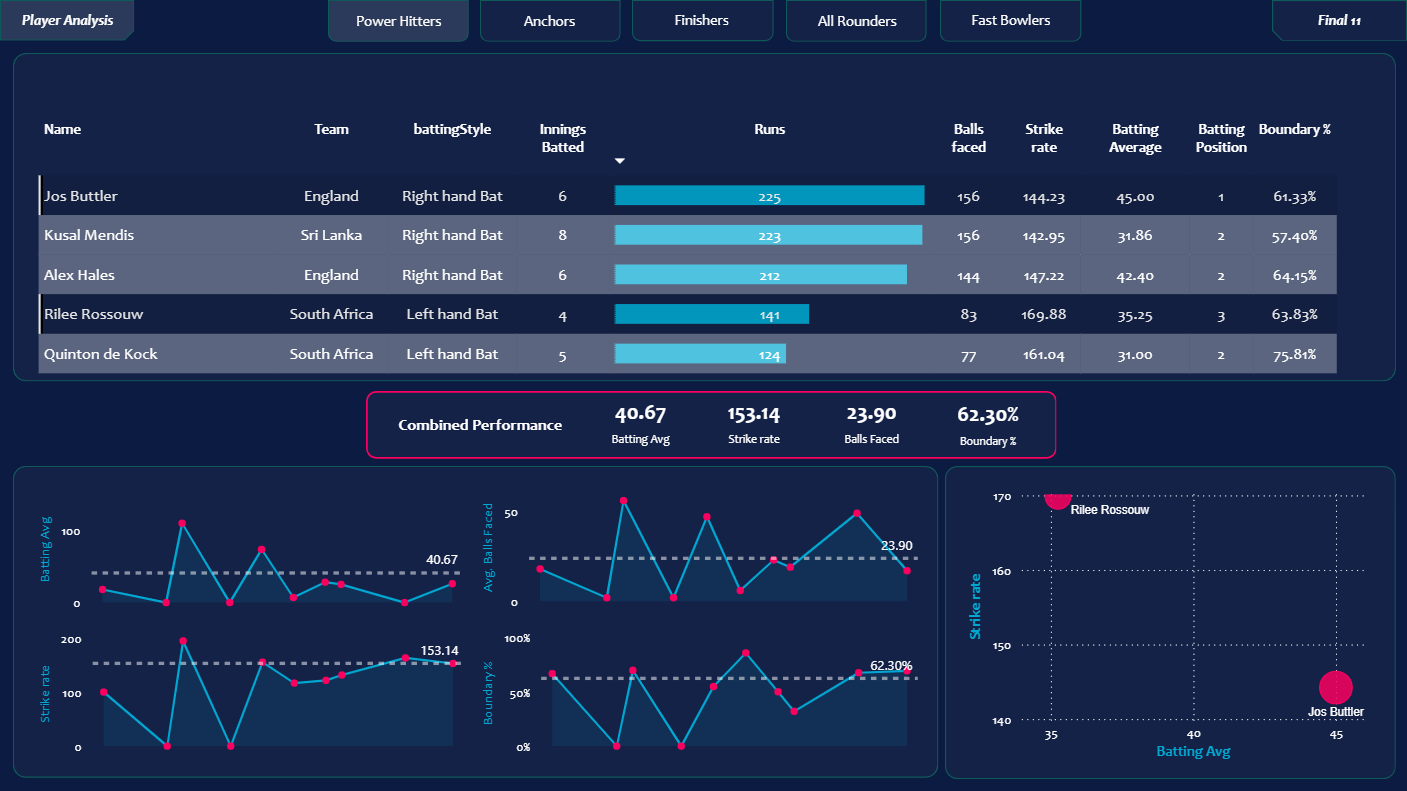

The dashboard page shown, as its layout file describes it:
{"tool":"powerbi","page":{"name":"Power Hitters / Openers","canvas":[1280,720],"ordinal":0},"visuals":[{"type":"tableEx","fields":{"Values":["dim_players.name","dim_players.team","dim_players.battingStyle","Key_Measures.Total Innings Batted","Key_Measures.Total Runs","Key_Measures.Total balls Faced","Key_Measures.Strike Rate","Key_Measures.Batting Avg","Key_Measures.Batting Position","Key_Measures.Boundary %"]},"box":[19.7,60.6,1240.9,166.7],"z":0},{"type":"scatterChart","fields":{"Category":["dim_players.name"],"Size":["Key_Measures.Total Runs"],"X":["Key_Measures.Batting Avg"],"Y":["Key_Measures.Strike Rate"],"Series":["dim_players.name"]},"box":[33.3,321.7,698.3,360],"z":1000},{"type":"textbox","box":[56.1,263.6,325.8,28.8],"z":2000},{"type":"textbox","box":[20,13.3,325,30],"z":3000},{"type":"card","fields":{"Values":["Key_Measures.Batting Avg"]},"box":[756.7,321.7,226.7,136.7],"z":4000},{"type":"card","fields":{"Values":["Key_Measures.Strike Rate"]},"box":[1016.7,321.7,226.7,136.7],"z":5000},{"type":"card","fields":{"Values":["Key_Measures.Average Balls Faced"]},"box":[1016.7,501.7,226.7,136.7],"z":6000},{"type":"card","fields":{"Values":["Key_Measures.Boundary %"]},"box":[776.7,510,186.7,128.3],"z":7000},{"type":"textbox","box":[776.7,291.7,325,30],"z":8000},{"type":"slicer","fields":{"Values":["dim_match_summary.Stage"]},"box":[1127.5,98.8,133.8,88.8],"z":9000}]}

Visuals, with their boxes in screenshot pixels (x1, y1, x2, y2), scaled from the page's 1280x720 canvas onto the 1407x791 screenshot:
tableEx - dim_players.name x dim_players.team: pyautogui.locateOnScreen(22, 67, 1386, 250)
scatterChart - dim_players.name x Key_Measures.Total Runs: pyautogui.locateOnScreen(37, 353, 804, 749)
textbox: pyautogui.locateOnScreen(62, 290, 420, 321)
textbox: pyautogui.locateOnScreen(22, 15, 379, 48)
card - Key_Measures.Batting Avg: pyautogui.locateOnScreen(832, 353, 1081, 504)
card - Key_Measures.Strike Rate: pyautogui.locateOnScreen(1118, 353, 1367, 504)
card - Key_Measures.Average Balls Faced: pyautogui.locateOnScreen(1118, 551, 1367, 701)
card - Key_Measures.Boundary %: pyautogui.locateOnScreen(854, 560, 1059, 701)
textbox: pyautogui.locateOnScreen(854, 320, 1211, 353)
slicer - dim_match_summary.Stage: pyautogui.locateOnScreen(1239, 109, 1386, 206)
